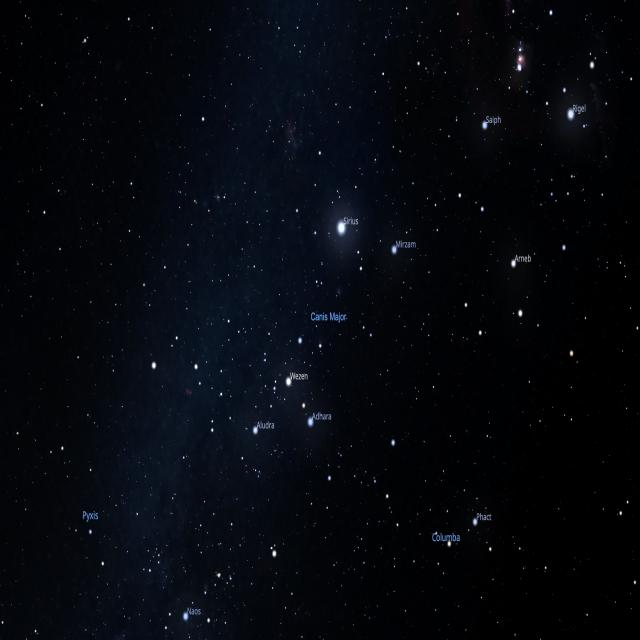Canis Major: (250, 145, 405, 483)
